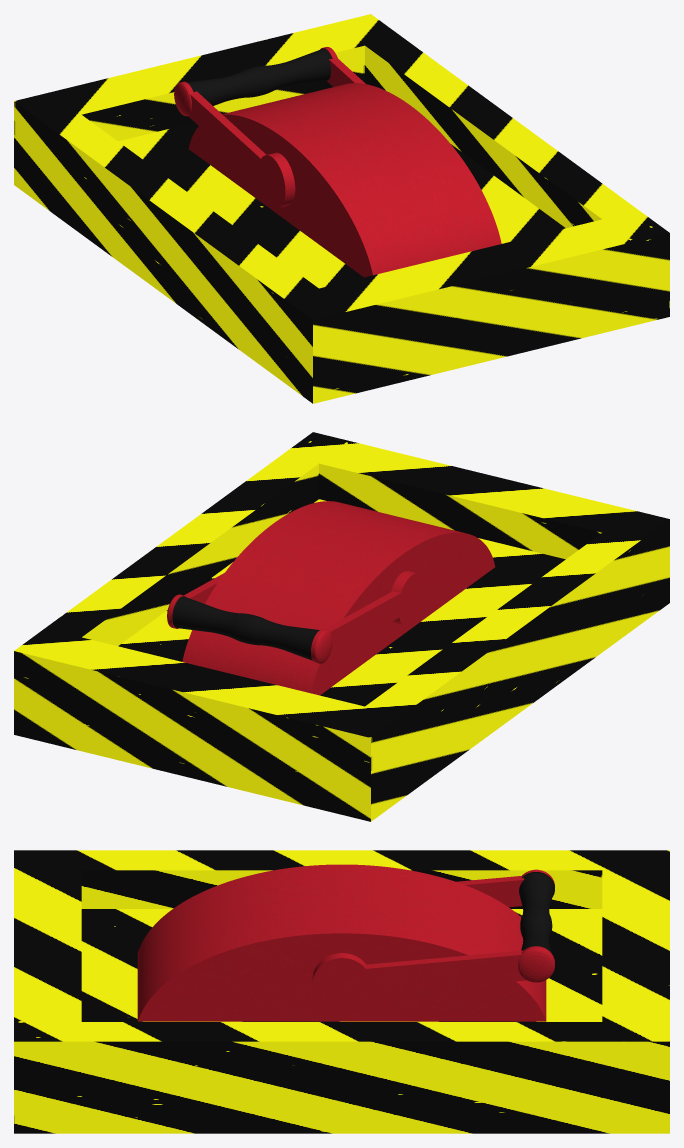
File: lever2.glb
3 renders of one model, top to bottom at view 1: azimuth 30°, elevation 25°; view 2: azimuth 150°, elevation 25°; view 3: azimuth 270°, elevation 25°, orthographic. The views are drawn at different scales.
Visible parts, largest first — view 1: Cube, Cylinder, Cylinder.001; view 2: Cube, Cylinder, Cylinder.001; view 3: Cube, Cylinder, Cylinder.001.
Boxes of the visible parts, x1=… form: Cube: x1=14, y1=14, x2=669, y2=403; Cylinder: x1=188, y1=83, x2=501, y2=277; Cylinder.001: x1=174, y1=47, x2=365, y2=207; Cube: x1=14, y1=432, x2=669, y2=821; Cylinder: x1=182, y1=501, x2=495, y2=695; Cylinder.001: x1=167, y1=571, x2=425, y2=663; Cube: x1=14, y1=850, x2=669, y2=1133; Cylinder: x1=137, y1=864, x2=546, y2=1021; Cylinder.001: x1=312, y1=869, x2=554, y2=1011.
Bounding box in the file's own units: 2.19 × 0.7537 × 3.17.
3 materials, 2 textured.
